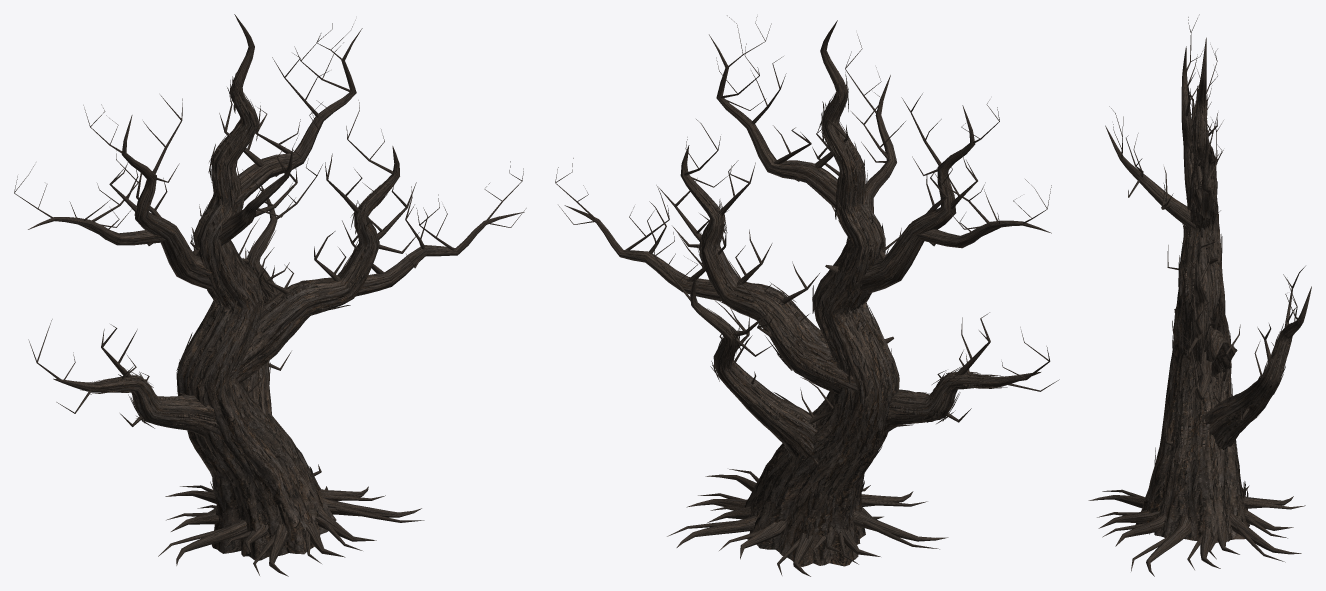
File: tree-v3.glb
3 renders of one model, left to right at view 1: azimuth 30°, elevation 25°; view 2: azimuth 150°, elevation 25°; view 3: azimuth 270°, elevation 25°, orthographic. The views are drawn at different scales.
Visible parts, largest first — view 1: Sculpted bark roots and fine branches; view 2: Sculpted bark roots and fine branches; view 3: Sculpted bark roots and fine branches.
Part boxes in pixels (x1,y1,x2,y2): Sculpted bark roots and fine branches: (14, 14, 526, 576); Sculpted bark roots and fine branches: (555, 15, 1059, 576); Sculpted bark roots and fine branches: (1088, 14, 1311, 576).
Size of the model in its own units: 6.05 by 6.17 by 2.57.
1 material, 1 textured.
